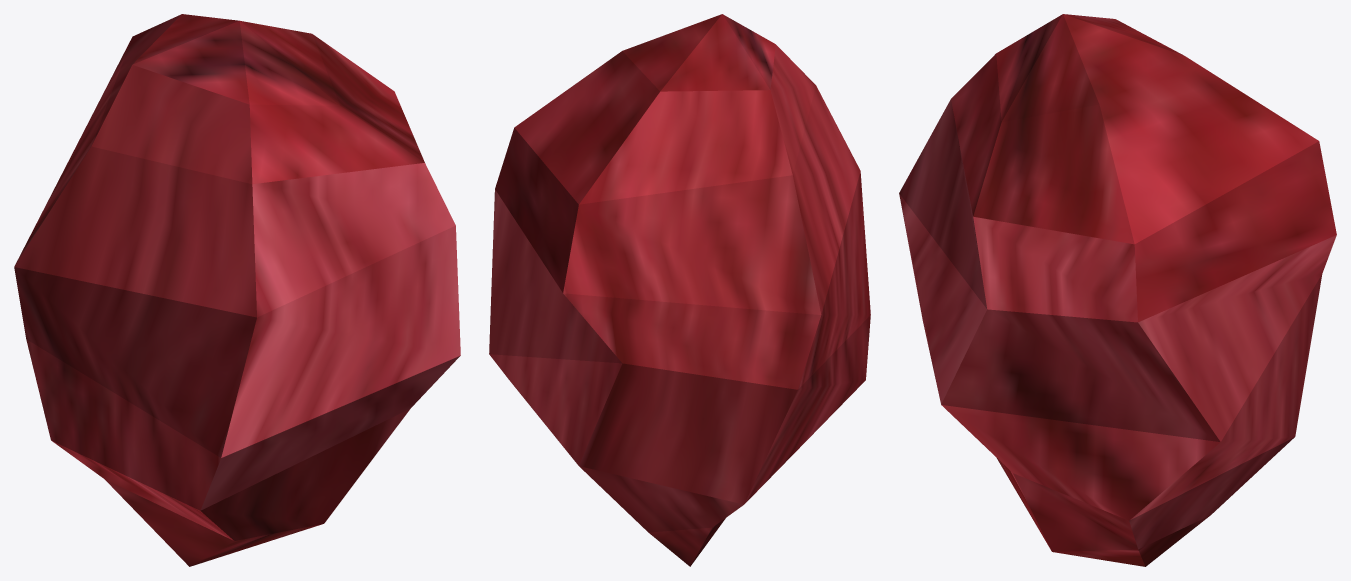
The model's file is RedTrufaRed.fbx.
The picture shows the model from 3 angles, left to right: view 1: azimuth 30°, elevation 25°; view 2: azimuth 150°, elevation 25°; view 3: azimuth 270°, elevation 25°; orthographic projection. The views are drawn at different scales.
Visible parts, largest first — view 1: Sphere; view 2: Sphere; view 3: Sphere.
Part boxes in pixels (<box>): Sphere: <box>14,14,460,566</box>; Sphere: <box>489,14,870,566</box>; Sphere: <box>899,14,1336,566</box>.
Bounding box in the file's own units: 164 × 238 × 170.
1 material, 1 textured.
